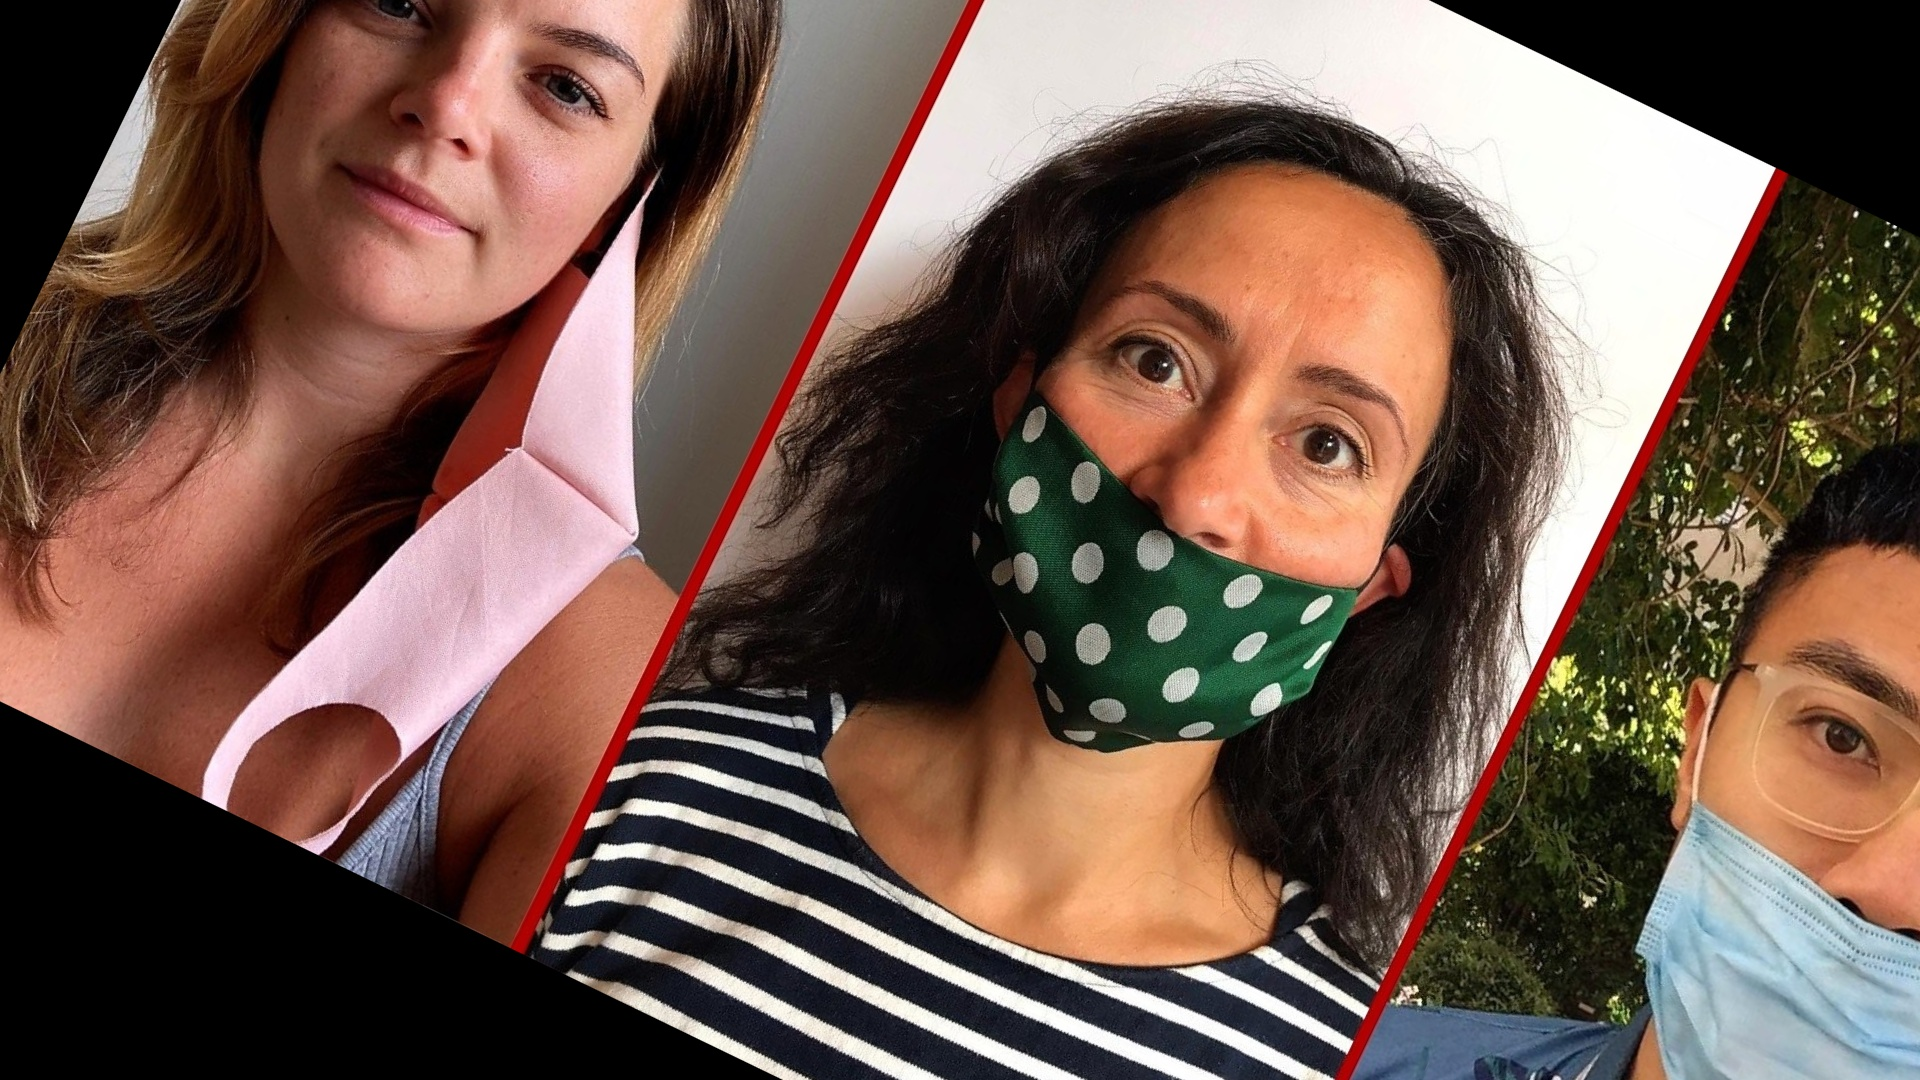mask_weared_incorrect: (960, 168, 1418, 763), (1642, 530, 1920, 1074)
without_mask: (257, 1, 656, 340)
